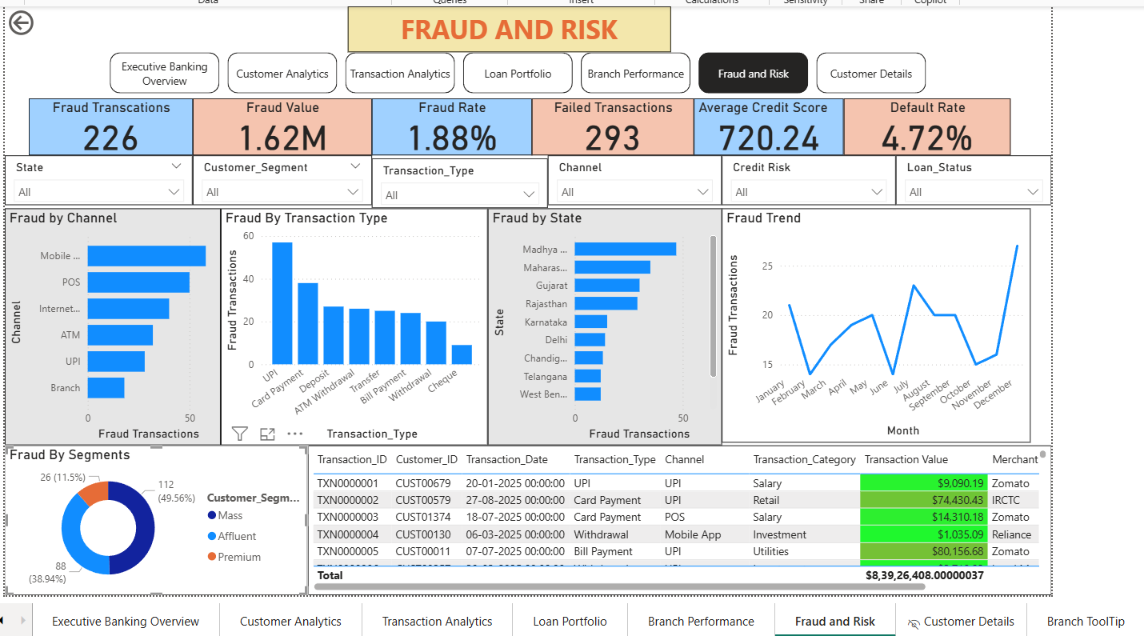

The dashboard page shown, as its layout file describes it:
{"tool":"powerbi","page":{"name":"Fraud and Risk","canvas":[1280,720],"ordinal":5},"visuals":[{"type":"card","title":"Fraud Transcations","fields":{"Values":["Transactions.Fraud Transactions"]},"box":[29.3,112.5,200.5,69.7],"z":0},{"type":"textbox","box":[419.4,0,395,56.3],"z":1000},{"type":"card","title":"Fraud Value","fields":{"Values":["Transactions.Fraud Value"]},"box":[229.9,112.5,218.9,69.7],"z":2000},{"type":"card","title":"Fraud Rate","fields":{"Values":["Transactions.Fraud Rate"]},"box":[448.8,112.5,195.7,69.7],"z":3000},{"type":"card","title":"Failed Transactions","fields":{"Values":["Transactions.Failed Transactions"]},"box":[644.4,112.5,198.1,69.7],"z":4000},{"type":"card","title":"Average Credit Score","fields":{"Values":["Customers.Average Credit Score"]},"box":[842.5,112.5,183.4,69.7],"z":5000},{"type":"card","title":"Default Rate","fields":{"Values":["Loans.Default Rate"]},"box":[1026,112.5,204.2,69.7],"z":6000},{"type":"clusteredBarChart","title":"Fraud by Channel","fields":{"Category":["Transactions.Channel"],"Y":["Transactions.Fraud Transactions"]},"box":[0,247,264.1,289.8],"z":7000},{"type":"clusteredColumnChart","title":"Fraud By Transaction Type","fields":{"Category":["Transactions.Transaction_Type"],"Y":["Transactions.Fraud Transactions"]},"box":[264.1,247,326.5,289.8],"z":8000},{"type":"clusteredBarChart","title":"Fraud by State","fields":{"Y":["Transactions.Fraud Transactions"],"Category":["Customers.State"]},"box":[590.6,247,286.1,289.8],"z":9000},{"type":"actionButton","box":[0,0,100,40],"z":10000},{"type":"donutChart","title":"Fraud By Segments","fields":{"Category":["Customers.Customer_Segment"],"Y":["Transactions.Fraud Transactions"]},"box":[0,536.8,359.5,183.4],"z":11000},{"type":"lineChart","title":"Fraud Trend","fields":{"Y":["Transactions.Fraud Transactions"],"Category":["Date.Date.Variation.Date Hierarchy.Year","Date.Date.Variation.Date Hierarchy.Quarter","Date.Date.Variation.Date Hierarchy.Month","Date.Date.Variation.Date Hierarchy.Day"]},"box":[876.8,247,377.9,286.1],"z":12000},{"type":"tableEx","fields":{"Values":["Transactions.Transaction_ID","Transactions.Customer_ID","Transactions.Transaction_Date","Transactions.Transaction_Type","Transactions.Channel","Transactions.Transaction_Category","Transactions.Transaction Value","Transactions.Merchant","Customers.Customer_Segment"]},"box":[370.5,536.8,909.8,183.4],"z":13000},{"type":"slicer","fields":{"Values":["Customers.State"]},"box":[0,182.2,229.9,61.1],"z":14000},{"type":"slicer","fields":{"Values":["Customers.Customer_Segment"]},"box":[229.9,182.2,218.9,61.1],"z":15000},{"type":"slicer","fields":{"Values":["Transactions.Transaction_Type"]},"box":[448.8,185.9,215.2,61.1],"z":16000},{"type":"slicer","fields":{"Values":["Transactions.Channel"]},"box":[664,182.2,212.8,61.1],"z":17000},{"type":"slicer","fields":{"Values":["Customers.Credit Risk"]},"box":[876.8,182.2,212.8,61.1],"z":18000},{"type":"slicer","fields":{"Values":["Loans.Loan_Status"]},"box":[1089.5,185.9,190.8,61.1],"z":19000},{"type":"pageNavigator","box":[128.4,56.3,1000.3,50.1],"z":19001}]}

Visuals, with their boxes on the page's 1280x720 design canvas (x1, y1, x2, y2). These are canvas units, not pixel positions in the 1144x636 screenshot, which may show the page scaled, cropped or inside an application window:
"Fraud Transcations" card: (29, 112, 230, 182)
textbox: (419, 0, 814, 56)
"Fraud Value" card: (230, 112, 449, 182)
"Fraud Rate" card: (449, 112, 644, 182)
"Failed Transactions" card: (644, 112, 842, 182)
"Average Credit Score" card: (842, 112, 1026, 182)
"Default Rate" card: (1026, 112, 1230, 182)
"Fraud by Channel" clusteredBarChart: (0, 247, 264, 537)
"Fraud By Transaction Type" clusteredColumnChart: (264, 247, 591, 537)
"Fraud by State" clusteredBarChart: (591, 247, 877, 537)
actionButton: (0, 0, 100, 40)
"Fraud By Segments" donutChart: (0, 537, 360, 720)
"Fraud Trend" lineChart: (877, 247, 1255, 533)
tableEx - Transactions.Transaction_ID x Transactions.Customer_ID: (370, 537, 1280, 720)
slicer - Customers.State: (0, 182, 230, 243)
slicer - Customers.Customer_Segment: (230, 182, 449, 243)
slicer - Transactions.Transaction_Type: (449, 186, 664, 247)
slicer - Transactions.Channel: (664, 182, 877, 243)
slicer - Customers.Credit Risk: (877, 182, 1090, 243)
slicer - Loans.Loan_Status: (1090, 186, 1280, 247)
pageNavigator: (128, 56, 1129, 106)
